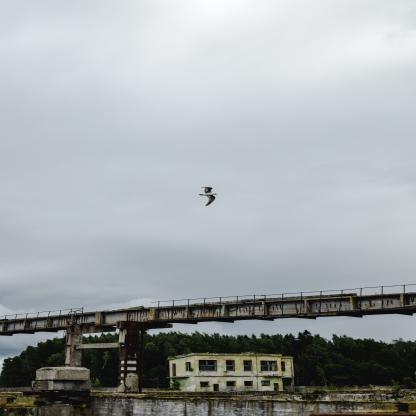bird: (199, 187, 217, 207)
